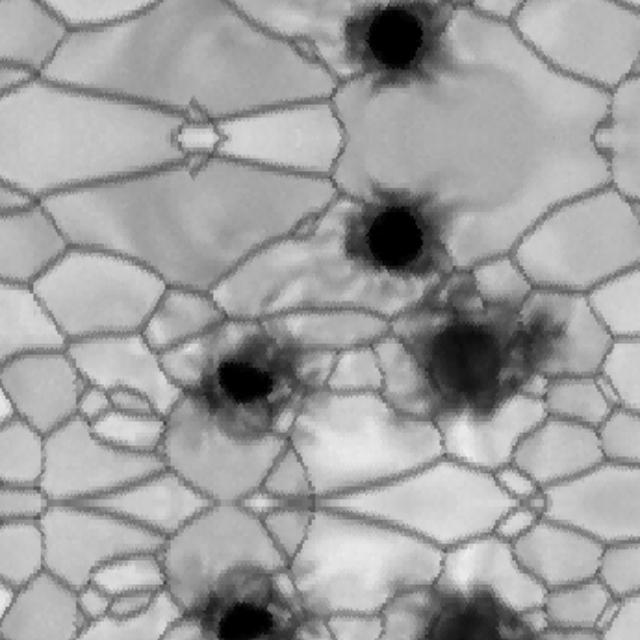good_void: (328, 167, 579, 429), (192, 280, 326, 444), (328, 0, 471, 107), (192, 561, 326, 640), (393, 576, 554, 640)
